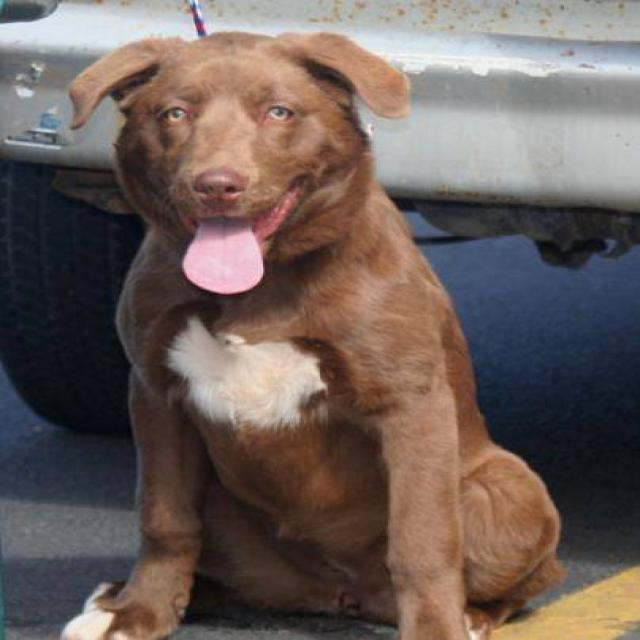dog: (56, 28, 567, 639)
